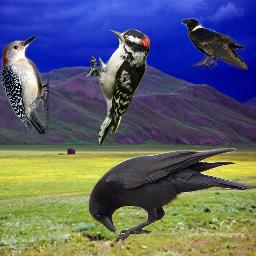Crow: (88, 148, 256, 246), (181, 17, 248, 70)
Woodpecker: (86, 27, 150, 146), (1, 35, 49, 134)
